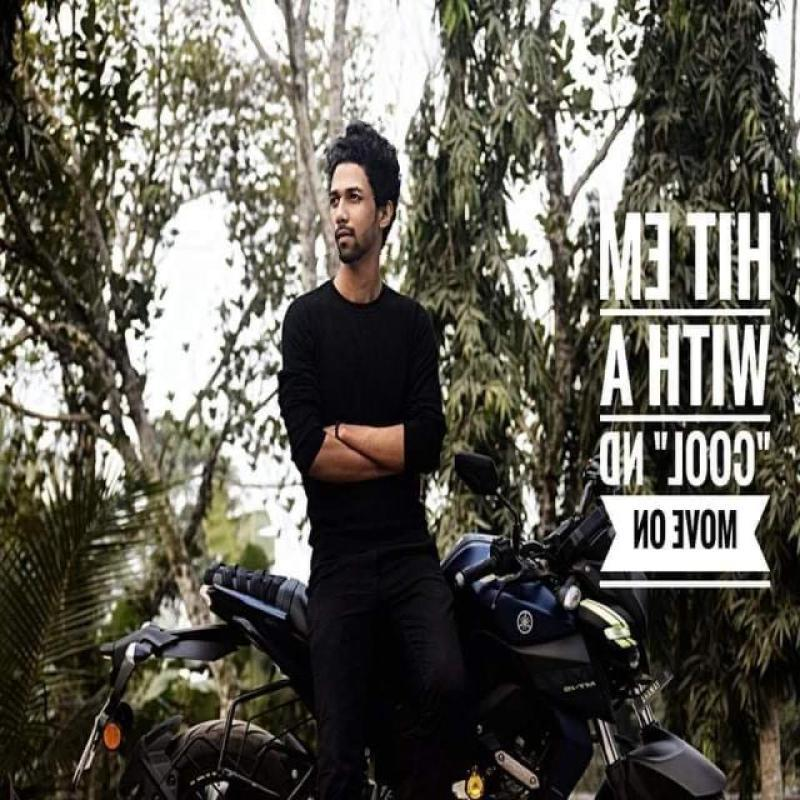nohelmet: (318, 120, 398, 276)
